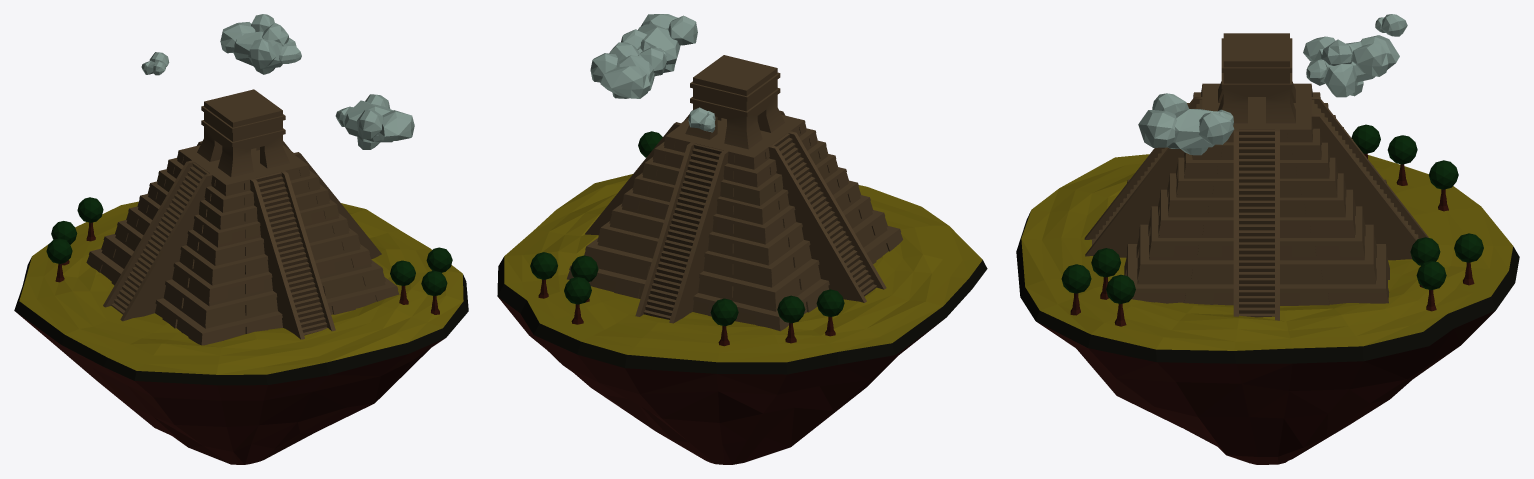
File: 03 CHICHEN ITZA.FBX
3 renders of one model, left to right at view 1: azimuth 30°, elevation 25°; view 2: azimuth 150°, elevation 25°; view 3: azimuth 270°, elevation 25°, orthographic. The views are drawn at different scales.
Parts seen in each view (by area): view 1: Group017, Line001, Box010, Box002, Plane004, Box001, Box003, Box004, Group006, Line004, Group005, Box005 (+15 smaller); view 2: Group017, Line001, Box010, Box002, Plane003, Box003, Box001, Box004, Line005, Group006, Box005, Plane002 (+16 smaller); view 3: Group017, Line001, Plane001, Box010, Box002, Box001, Box003, Group006, Group005, Line006, Box004, Line008 (+21 smaller).
Part boxes in pixels (x1,y1,x2,y2): Group017: (14, 201, 468, 385); Line001: (16, 312, 445, 464); Box010: (197, 89, 289, 177); Box002: (101, 234, 385, 328); Plane004: (254, 172, 327, 335); Box001: (86, 248, 399, 345); Box003: (115, 220, 371, 306); Box004: (126, 206, 360, 285); Group006: (220, 14, 301, 74); Line004: (120, 173, 212, 321); Group005: (335, 94, 414, 149); Box005: (137, 194, 349, 265); Group017: (497, 174, 987, 374); Line001: (498, 297, 942, 464); Box010: (685, 55, 784, 149); Box002: (584, 210, 887, 311); Plane003: (643, 143, 723, 319); Box003: (597, 195, 873, 287); Box001: (567, 226, 902, 331); Box004: (609, 180, 860, 265); Line005: (768, 145, 866, 302); Group006: (590, 42, 666, 98); Box005: (621, 167, 848, 244); Plane002: (771, 133, 876, 296); Group017: (1016, 154, 1519, 363); Line001: (1037, 310, 1495, 464); Plane001: (1239, 130, 1274, 317); Box010: (1218, 33, 1295, 123); Box002: (1136, 165, 1376, 284); Box001: (1124, 179, 1389, 305); Box003: (1148, 206, 1365, 260); Group006: (1303, 35, 1399, 97); Group005: (1138, 93, 1234, 155); Line006: (1311, 114, 1416, 260); Box004: (1158, 139, 1355, 237); Line008: (1085, 148, 1184, 257).
Bounding box in the file's own units: 92.97 × 93.77 × 95.46.
